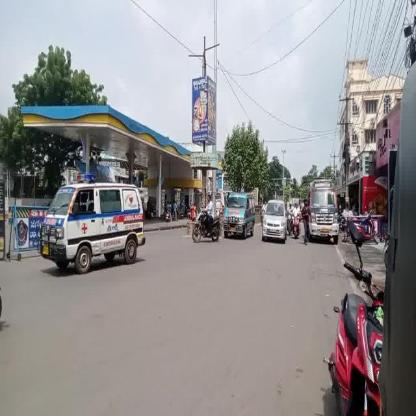priority: (41, 174, 155, 287), (302, 177, 345, 244), (223, 187, 259, 254)
